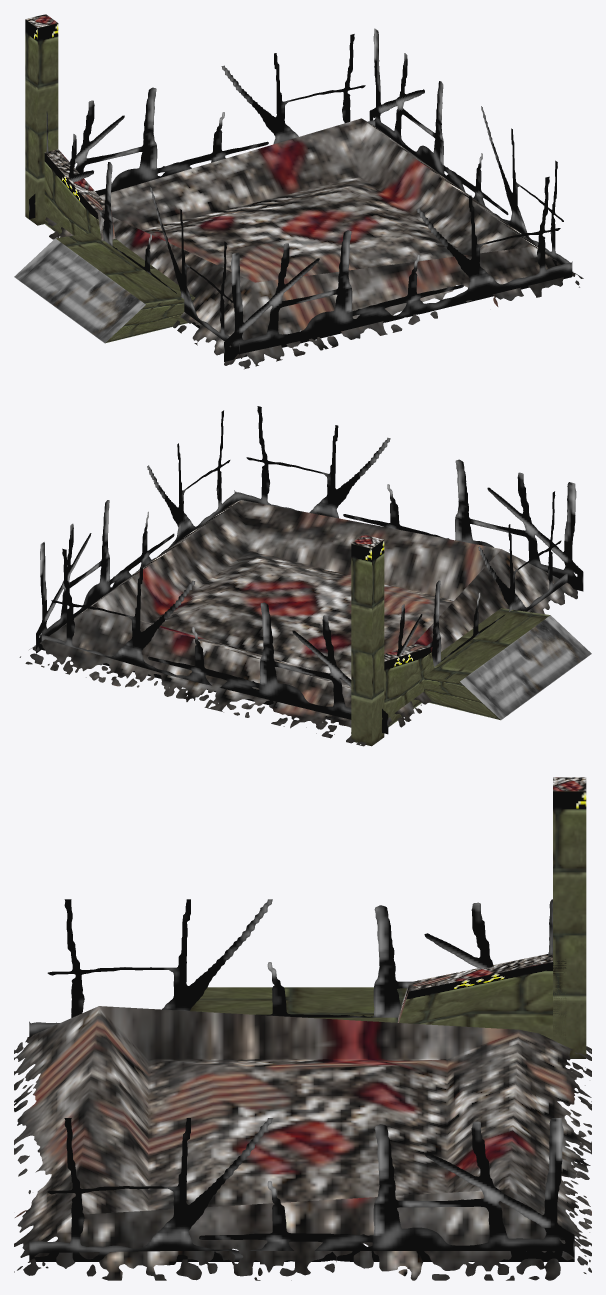
Rendered from l_residencecore_dam.glb.
The picture shows the model from 3 angles, top to bottom: view 1: azimuth 30°, elevation 25°; view 2: azimuth 150°, elevation 25°; view 3: azimuth 270°, elevation 25°; orthographic projection. The views are drawn at different scales.
Visible parts, largest first — view 1: L-RescoreDAM; view 2: L-RescoreDAM; view 3: L-RescoreDAM.
Part boxes in pixels (x1,y1,x2,y2): L-RescoreDAM: (14, 14, 583, 369); L-RescoreDAM: (19, 406, 591, 746); L-RescoreDAM: (14, 777, 591, 1280).
Bounding box in the file's own units: 26.82 × 11.89 × 23.26.
Materials: 4 (4 with a texture image).
